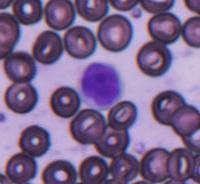L: (78, 60, 124, 109)
